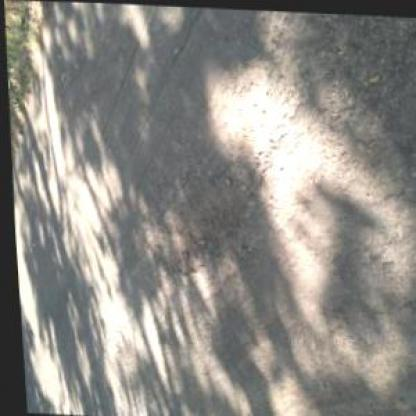pothole: (143, 144, 269, 280)
